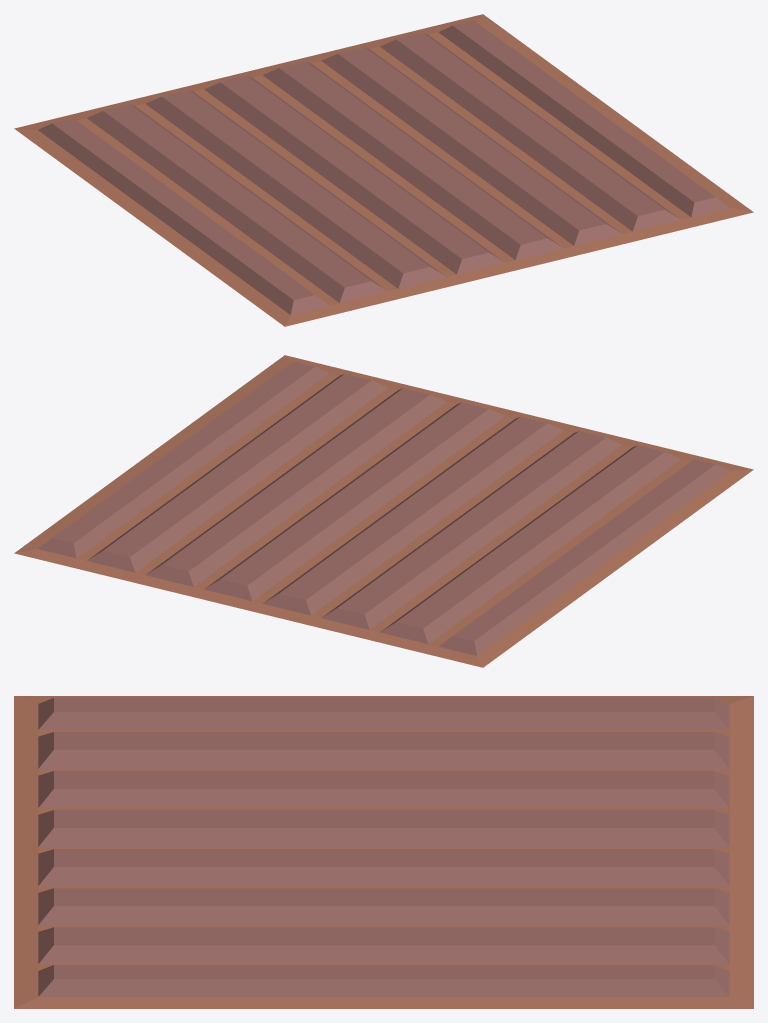
Rendered from planting_field.fbx.
3 views of the same model, one above another, from view 1: azimuth 30°, elevation 25°; view 2: azimuth 150°, elevation 25°; view 3: azimuth 270°, elevation 25° (orthographic). The views are drawn at different scales.
Visible parts, largest first — view 1: planting_field; view 2: planting_field; view 3: planting_field.
Boxes of the visible parts, x1=… form: planting_field: x1=14, y1=14, x2=753, y2=326; planting_field: x1=14, y1=355, x2=753, y2=667; planting_field: x1=14, y1=696, x2=753, y2=1008.
Size of the model in its own units: 1800 by 37.42 by 1800.
